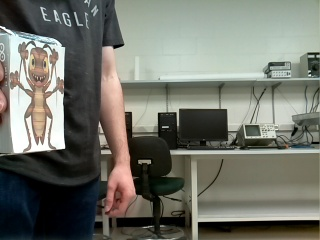Angry: (10, 41, 64, 153)
